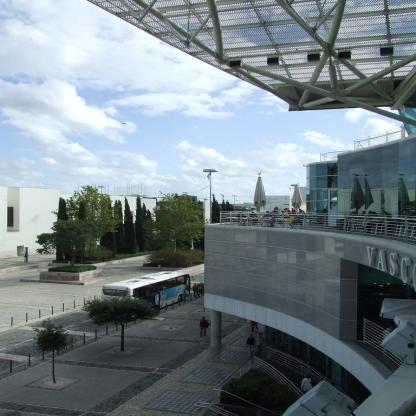bus: (103, 273, 196, 311)
